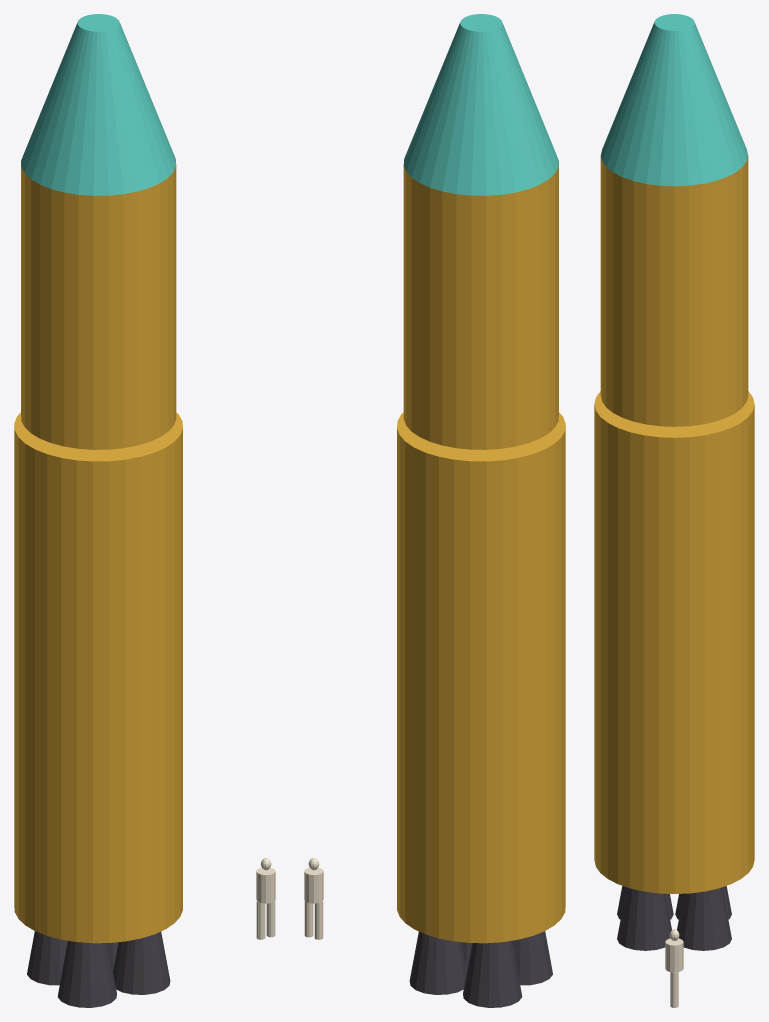
File: vesper_ascent_vehicle.obj
The picture shows the model from 3 angles, left to right: view 1: azimuth 30°, elevation 25°; view 2: azimuth 150°, elevation 25°; view 3: azimuth 270°, elevation 25°; orthographic projection. The views are drawn at different scales.
Parts seen in each view (by area): view 1: stage_1, stage_2, capsule, engines, person; view 2: stage_1, stage_2, capsule, engines, person; view 3: stage_1, stage_2, capsule, engines, person.
Boxes of the visible parts, box(x1,y1,x2,y2) form: stage_1: box(14, 412, 182, 943); stage_2: box(21, 163, 176, 449); capsule: box(21, 14, 176, 195); engines: box(27, 931, 170, 1007); person: box(256, 858, 275, 939); stage_1: box(397, 412, 565, 943); stage_2: box(403, 163, 558, 449); capsule: box(403, 14, 558, 195); engines: box(409, 931, 552, 1007); person: box(304, 858, 323, 939); stage_1: box(594, 391, 754, 893); stage_2: box(600, 155, 748, 426); capsule: box(601, 14, 747, 186); engines: box(617, 886, 731, 950); person: box(665, 929, 683, 1007).
Bounding box in the file's own units: 5.96 × 21.8 × 3.5.
